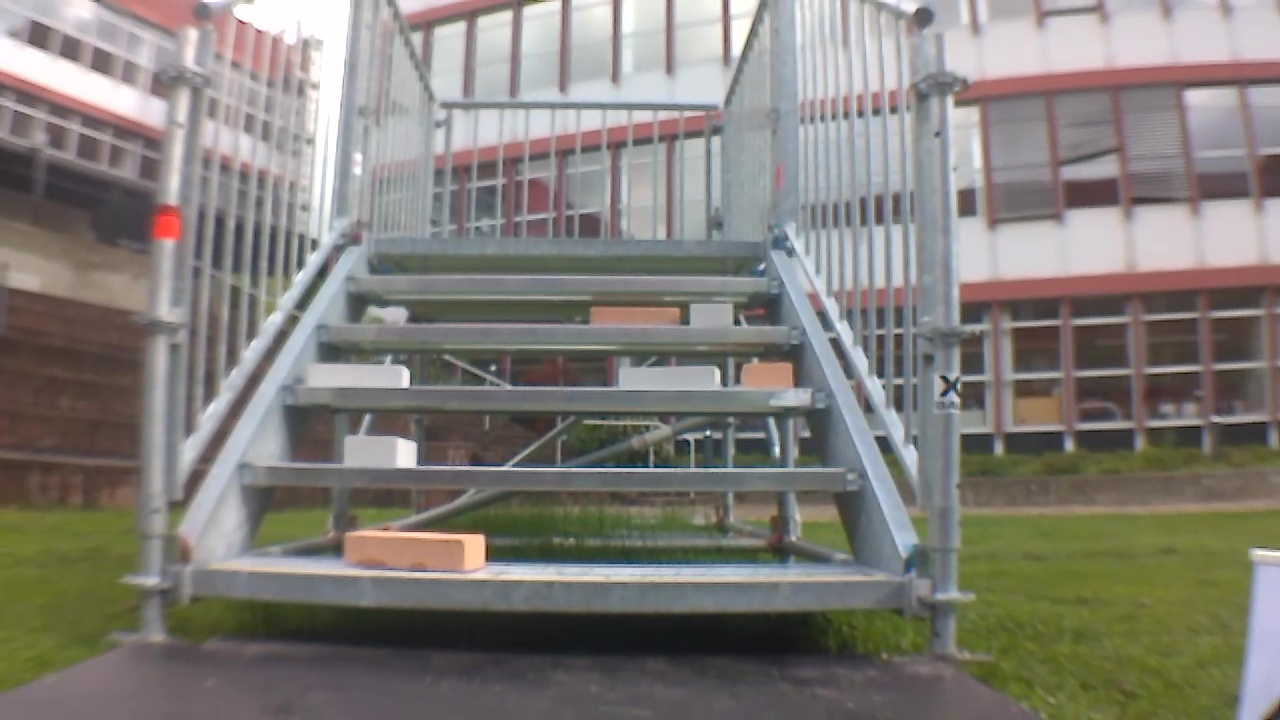brick: (343, 530, 484, 570), (308, 364, 408, 386), (619, 367, 719, 388), (344, 437, 416, 466), (592, 306, 678, 325), (743, 364, 791, 386), (689, 303, 732, 326)
edge: (194, 570, 908, 611), (239, 463, 861, 490), (283, 385, 834, 410), (317, 325, 808, 343), (373, 235, 770, 256), (346, 274, 779, 293)
stairs: (123, 5, 987, 667)
steps: (187, 232, 912, 617)
